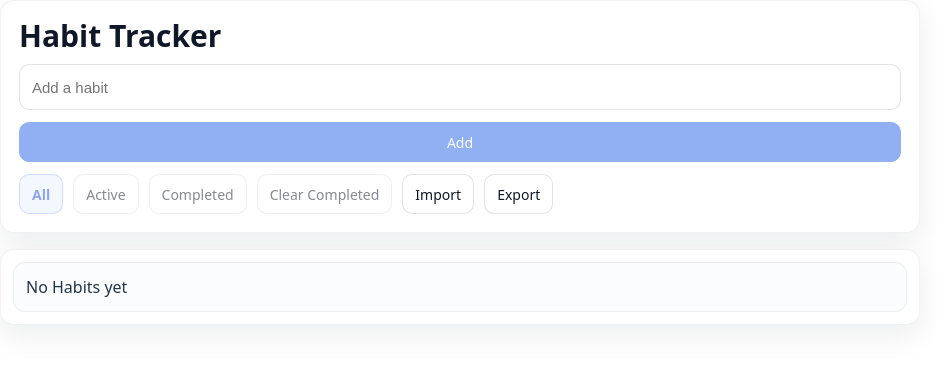
Test case: add/Update › adds a habit and shows it in the list
Type "Drink water" into the field named "new habit" at [460, 87], box top-left (19, 64), bottom-right (901, 110)
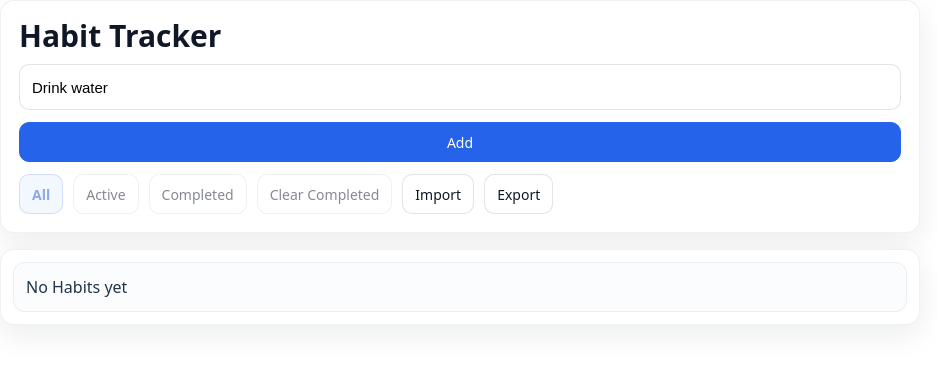
Click the button "Add" at [460, 142], box top-left (19, 122), bottom-right (901, 162)
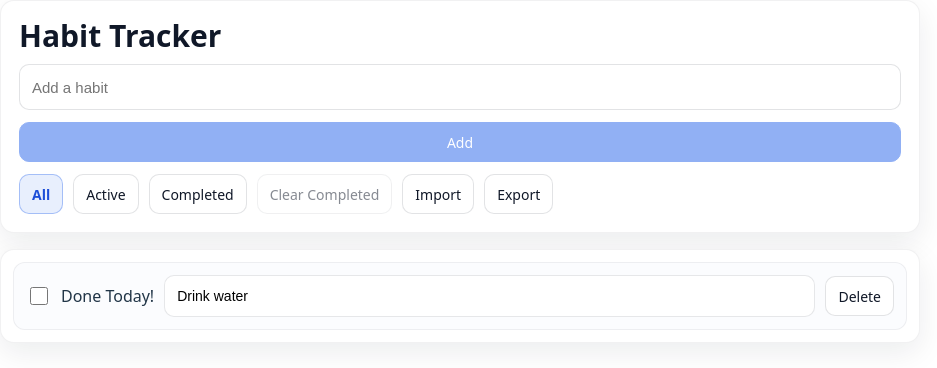
Expected: the field showing "Drink water" is shown, top-left (164, 275), bottom-right (816, 317)
Expected: the field named "new habit" is empty, top-left (19, 64), bottom-right (901, 110)
